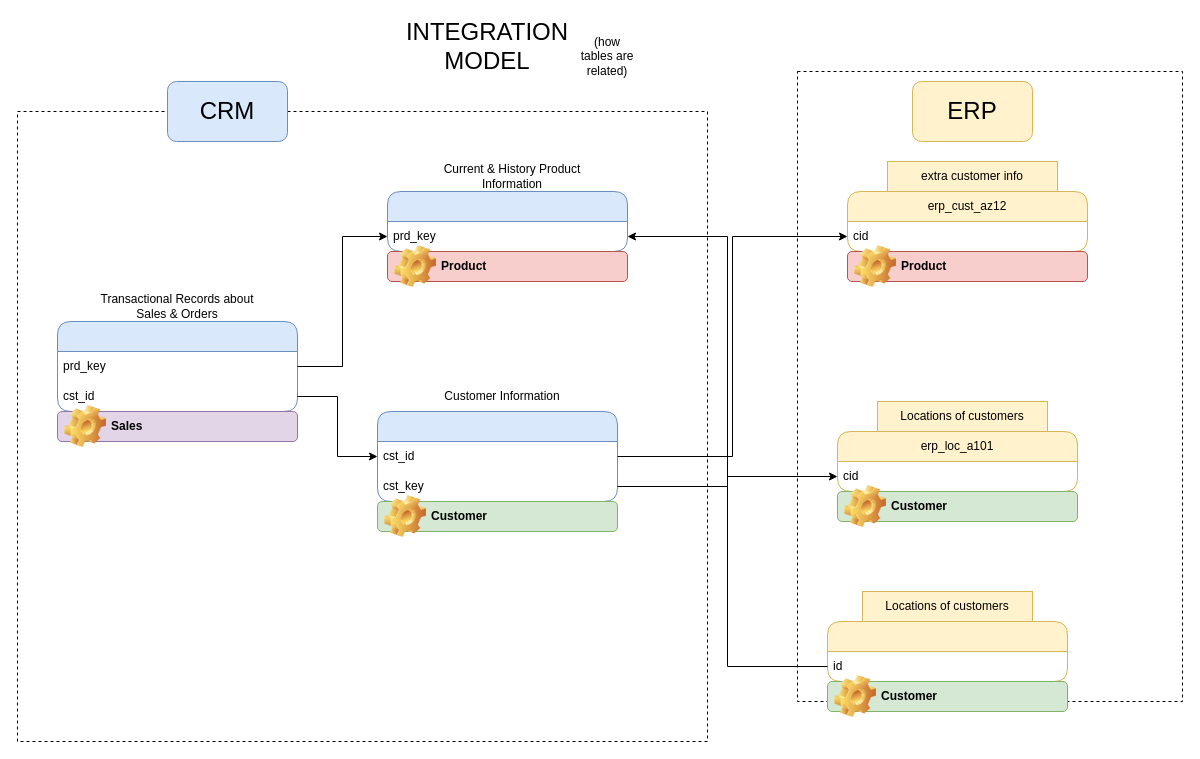
Image size: 1200x759. Some labels were removed from this diagram. Here are the shapes that lost their labels. From the top down, the box of each, then its label:
(386, 190, 628, 252): crm_prd_info
(56, 320, 298, 412): crm_sales_details
(376, 410, 618, 502): crm_cust_info
(826, 620, 1068, 682): erp_px_cat_g1v2
